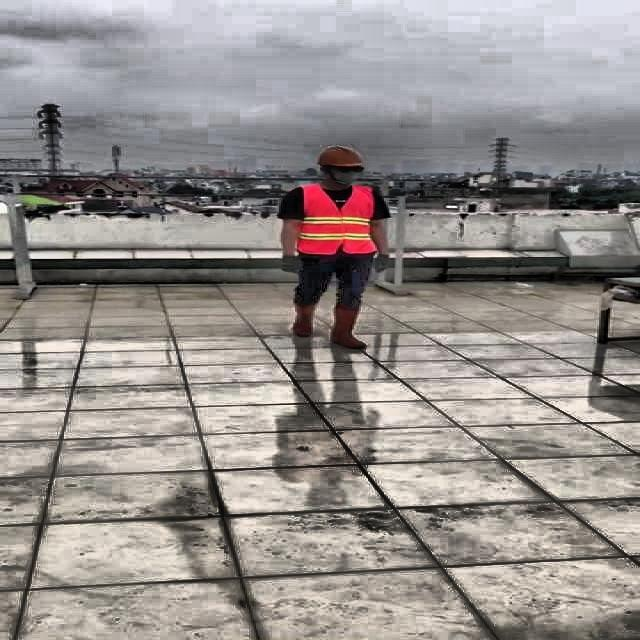safety_helmet: (315, 144, 366, 170)
safety_jacket: (298, 184, 378, 253)
